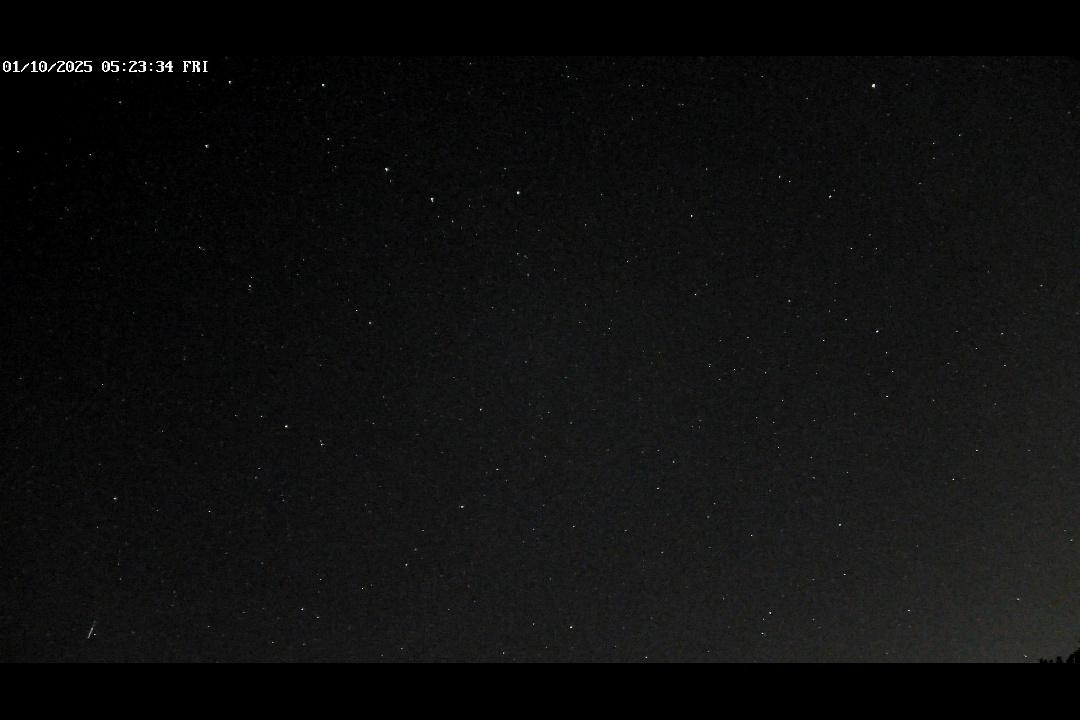meteorite: (85, 610, 104, 642)
